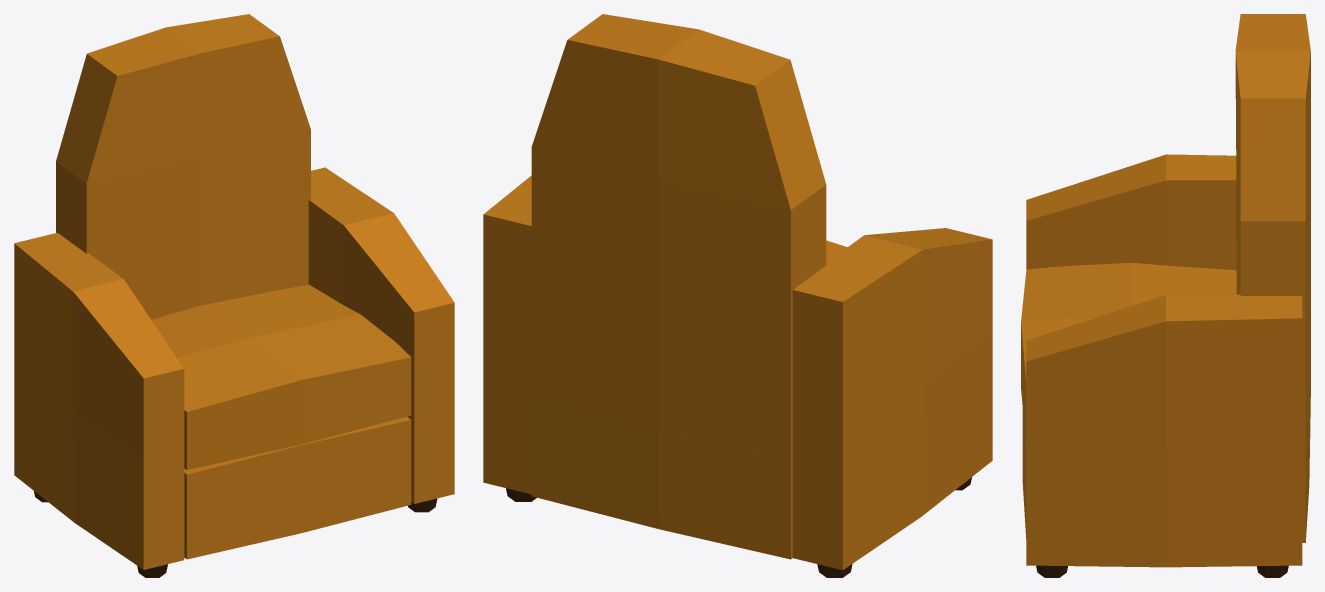
Rendered from Armchair2.glb.
The picture shows the model from 3 angles, left to right: view 1: azimuth 30°, elevation 25°; view 2: azimuth 150°, elevation 25°; view 3: azimuth 270°, elevation 25°; orthographic projection. The views are drawn at different scales.
Parts seen in each view (by area): view 1: Armchair2; view 2: Armchair2; view 3: Armchair2.
Part boxes in pixels (x1,y1,x2,y2): Armchair2: (14, 14, 454, 577); Armchair2: (483, 14, 992, 577); Armchair2: (1021, 14, 1310, 577).
Size of the model in its own units: 0.931 by 1.17 by 0.6833.
